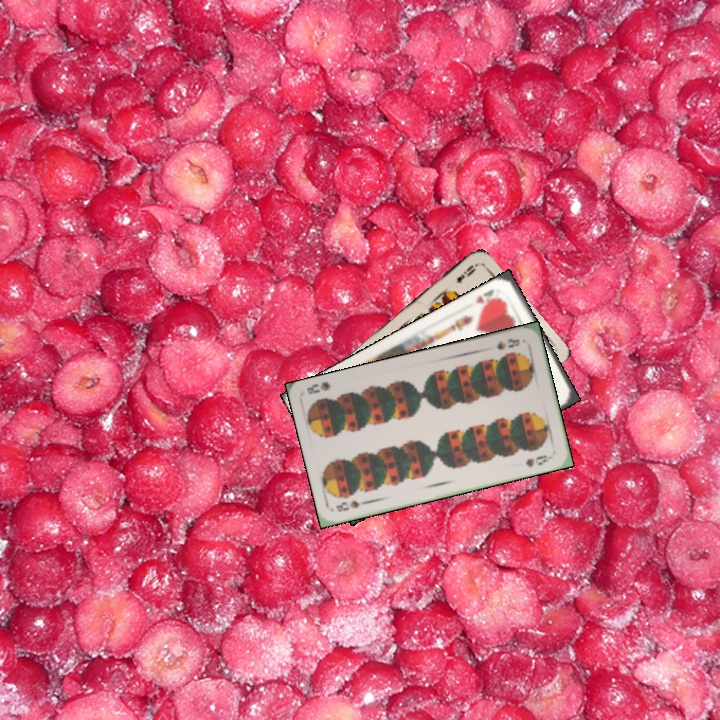E9: (452, 260, 479, 286)
HK: (471, 285, 503, 310)
S8: (332, 496, 372, 514), (492, 334, 522, 353)
